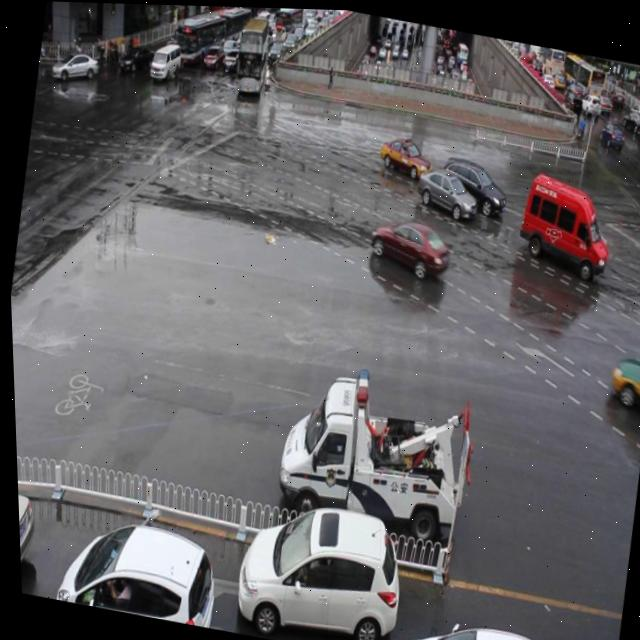bus: (264, 355, 480, 554)
car: (225, 489, 408, 640), (50, 507, 220, 627), (386, 607, 582, 640), (363, 212, 453, 280), (434, 152, 509, 217), (411, 164, 480, 222), (14, 472, 39, 595), (375, 134, 432, 181), (604, 346, 640, 409)
truck: (512, 168, 616, 281)
